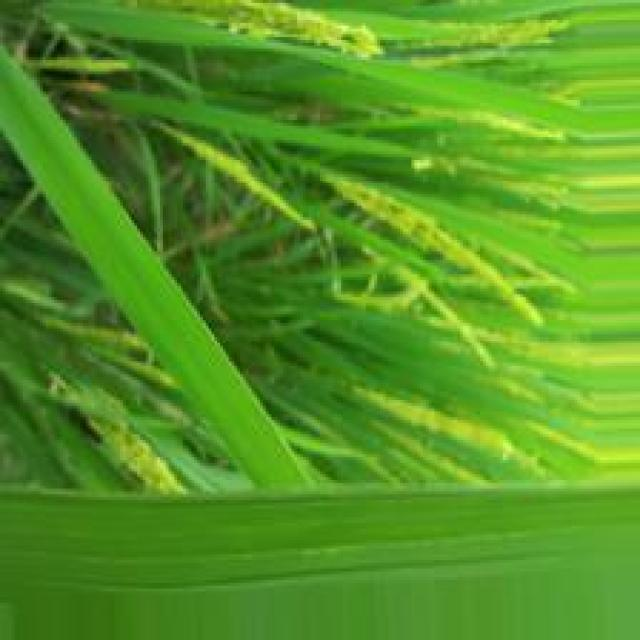HealthyLeaf: (2, 54, 322, 501), (0, 491, 640, 640)
